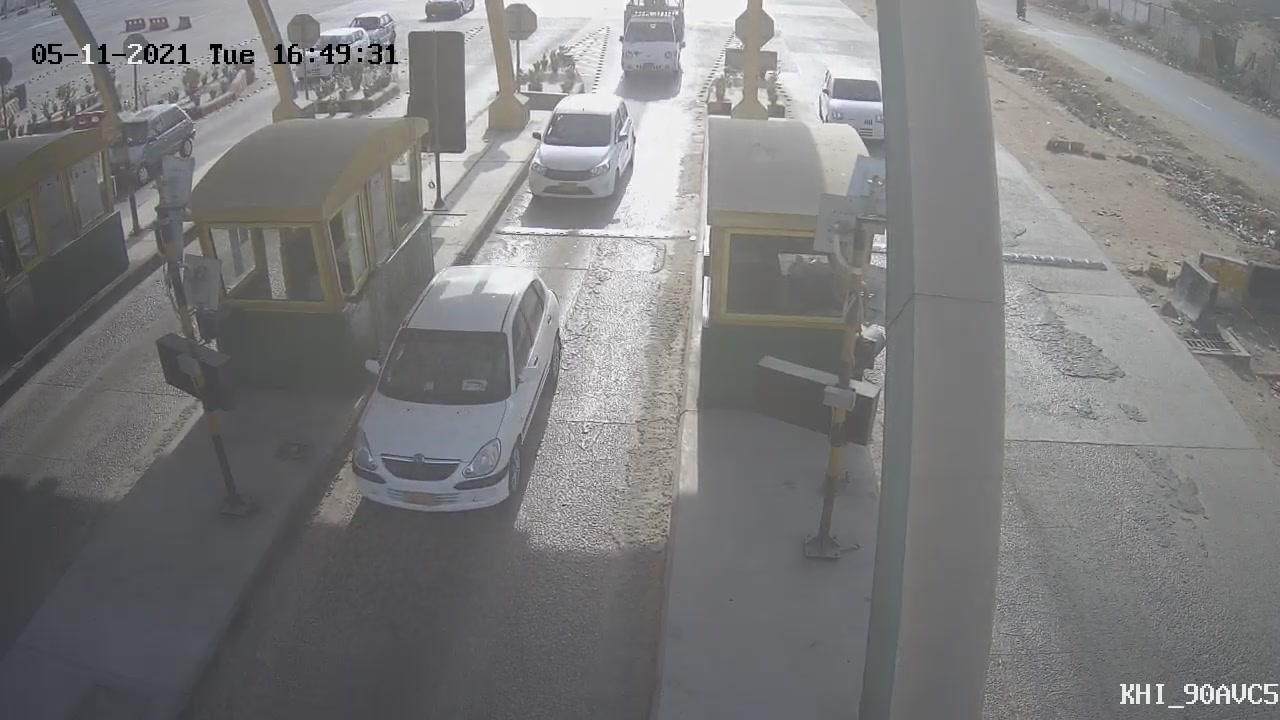F1: (331, 247, 579, 539), (512, 81, 656, 220)
